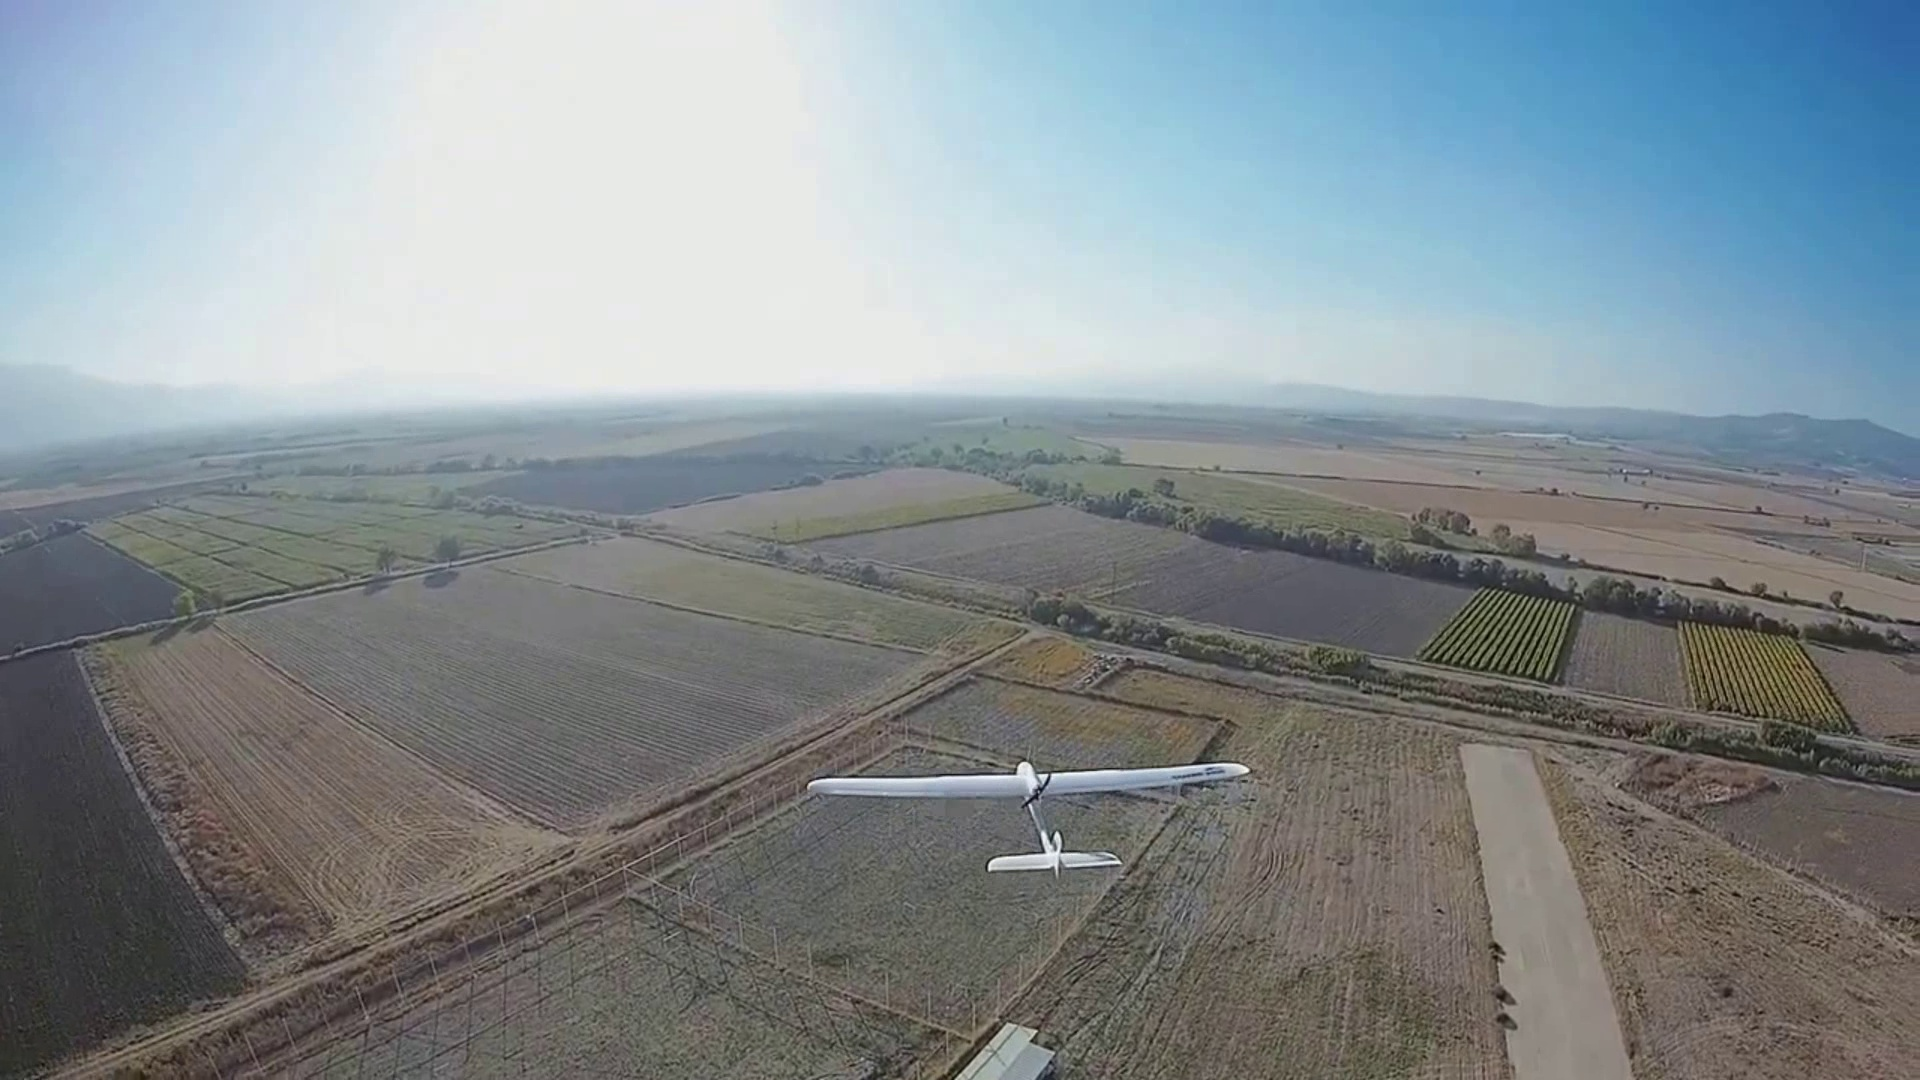airplane: (803, 753, 1254, 876)
